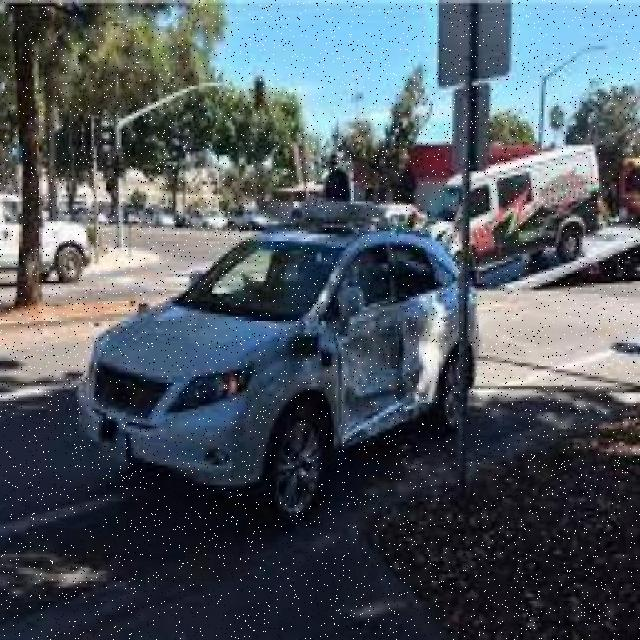damage: (241, 233, 470, 442)
